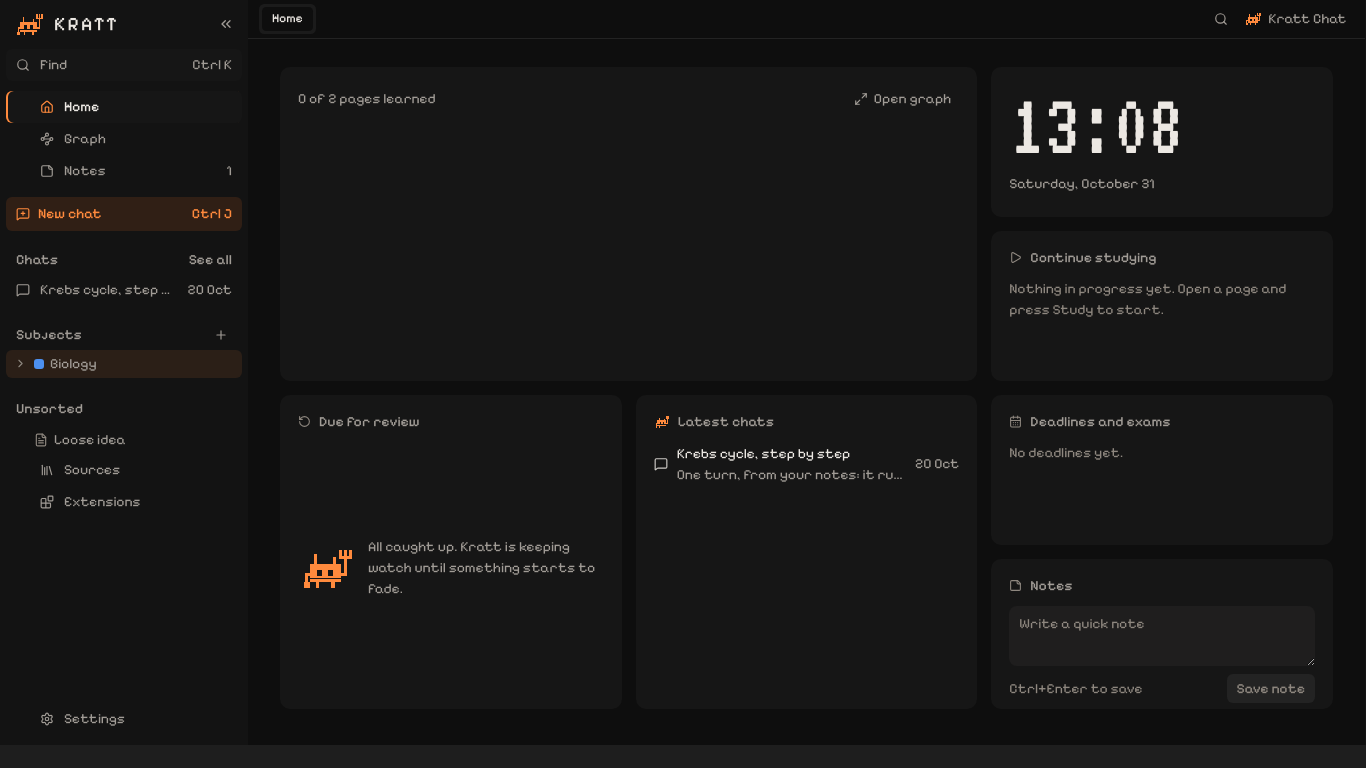
it: sidebar copy, paste and delete keys › asks to delete the selected row, and cancel keeps it
Press Delete in the list item "Biology", box 6,350 -> 242,378
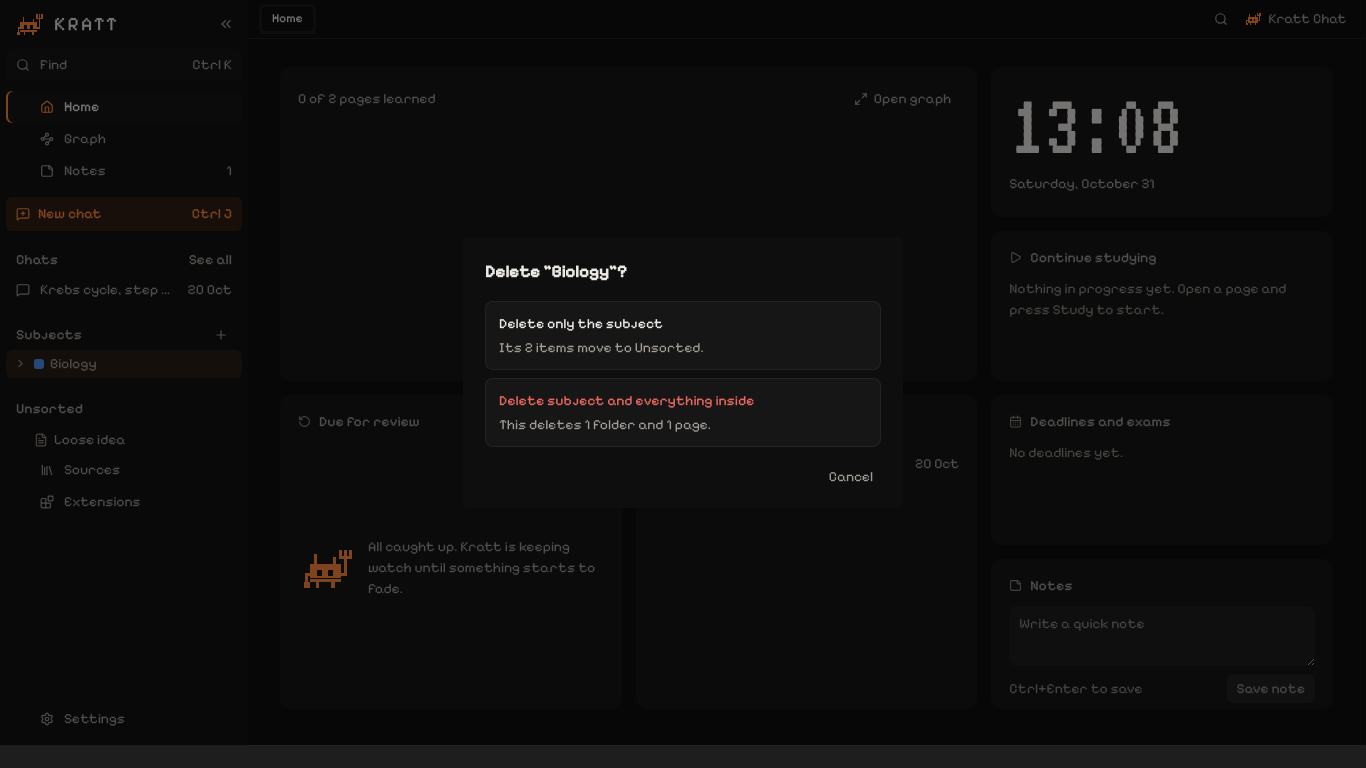
Click the button "Cancel" at (851,476), box 821,460 -> 881,492
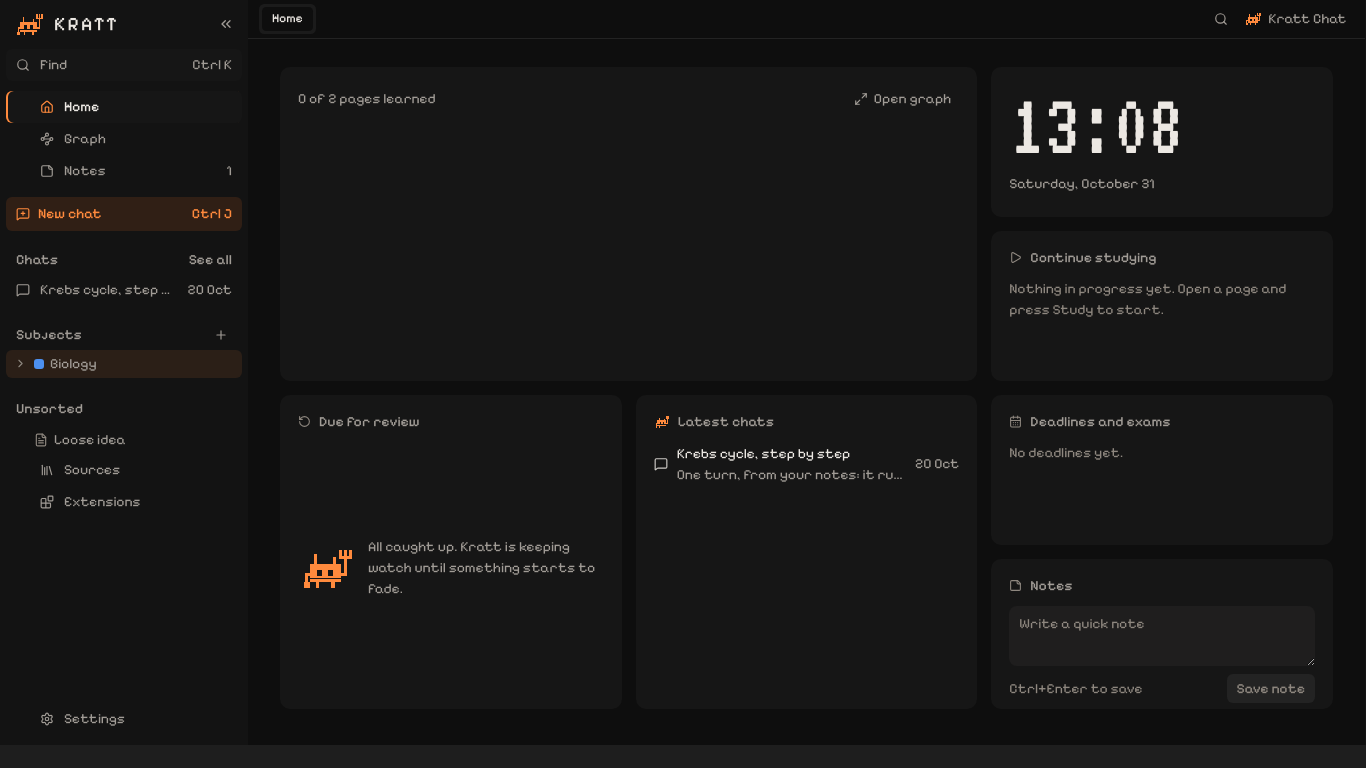
Check: the text "Biology" is shown, box 50,355 -> 97,372
Check: the dialog is gone
